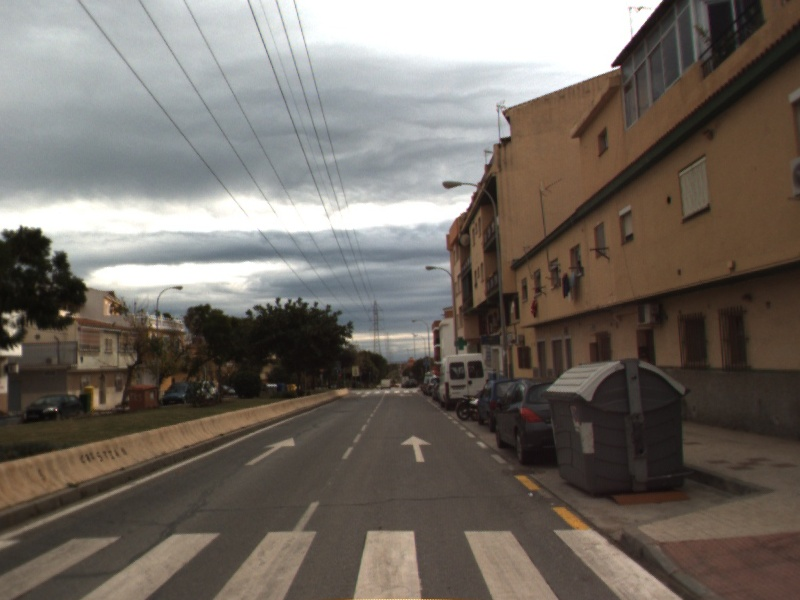STRAIGHT: (243, 435, 297, 467), (399, 432, 434, 464)
